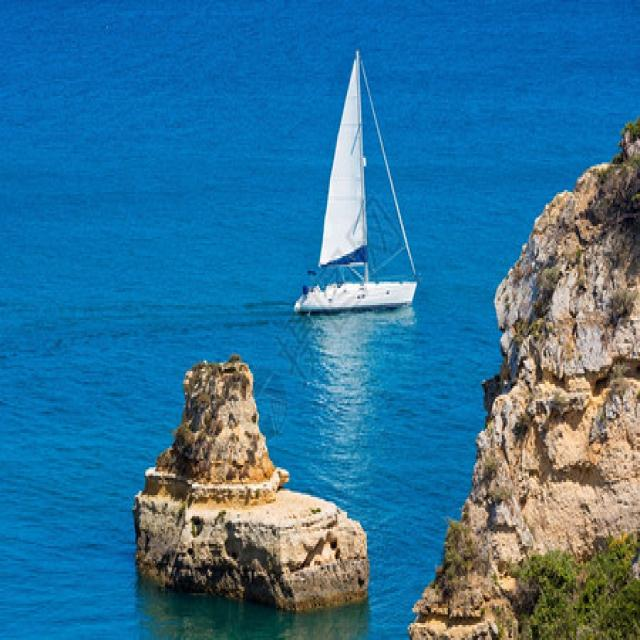sailboat: (292, 35, 420, 311)
